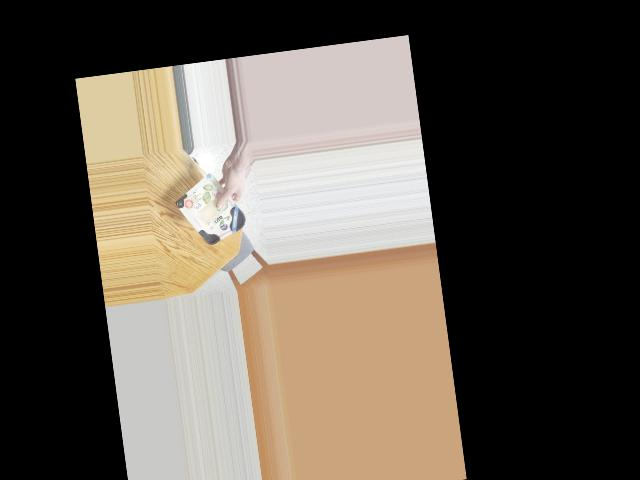cheese: (179, 178, 249, 253)
